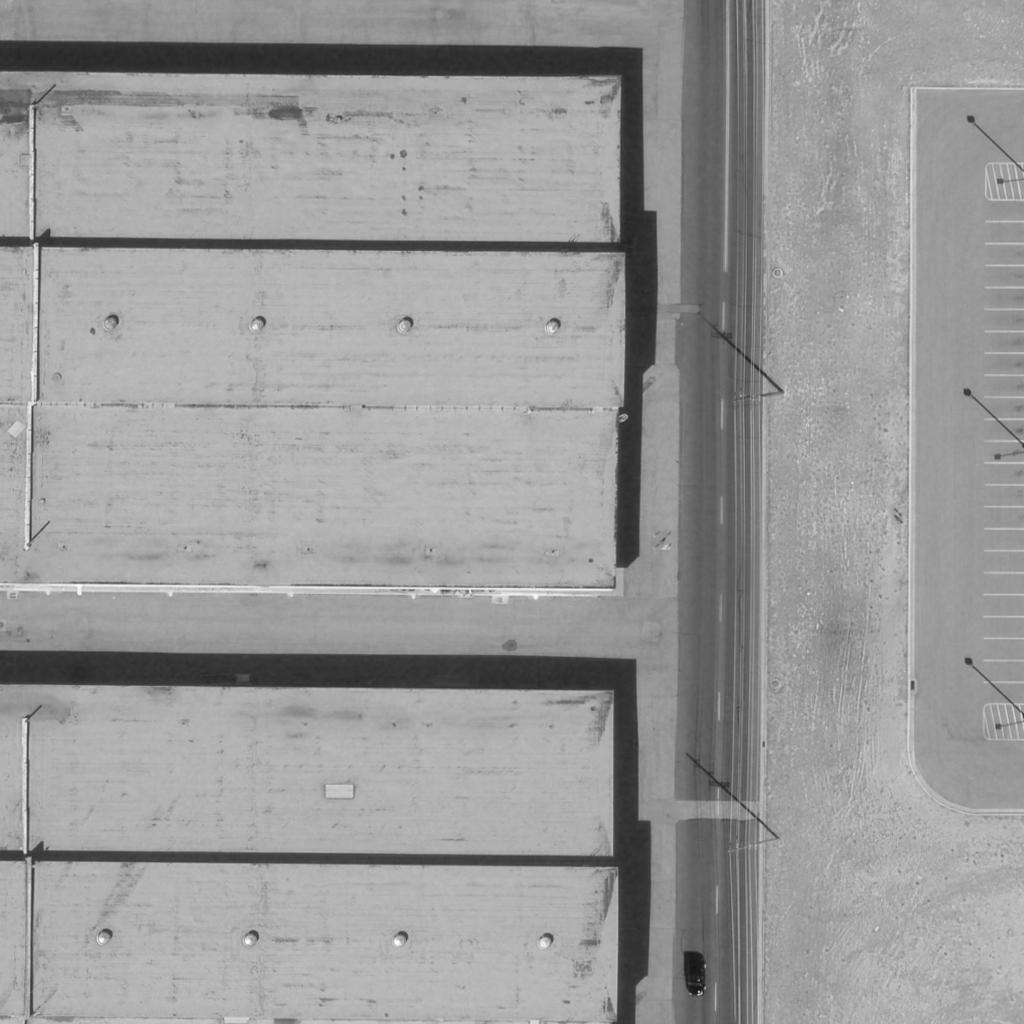vehicle: (689, 960, 705, 996)
